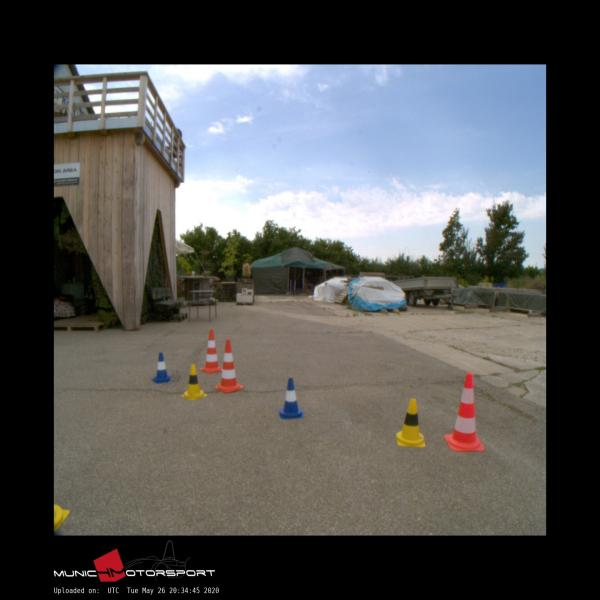blue_cone: (279, 378, 303, 418), (151, 352, 172, 383)
large_orange_cone: (444, 373, 484, 451), (215, 339, 243, 392), (200, 329, 222, 372)
yellow_cone: (396, 398, 425, 446), (182, 364, 206, 400)
